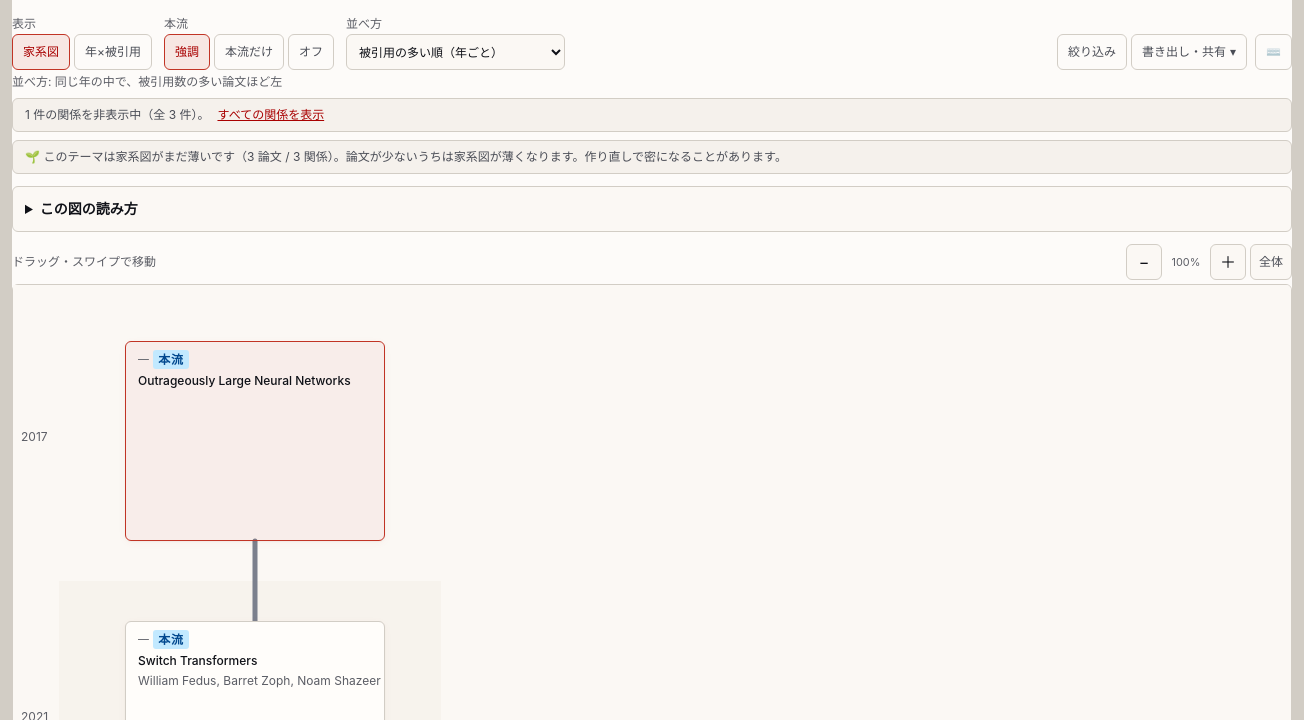
Test: LineageTree evidence UX (R2 UX P0-1 / P0-2) › draws baseline_only edges by default and announces the hidden contrasts edge
expect the message with test id "hidden-edges-notice" shows "1 件の関係を非表示中": met, box [12,98,1292,132]
Step 1. Click the button "すべての関係を表示" → (271,115), box [218,107,324,123]
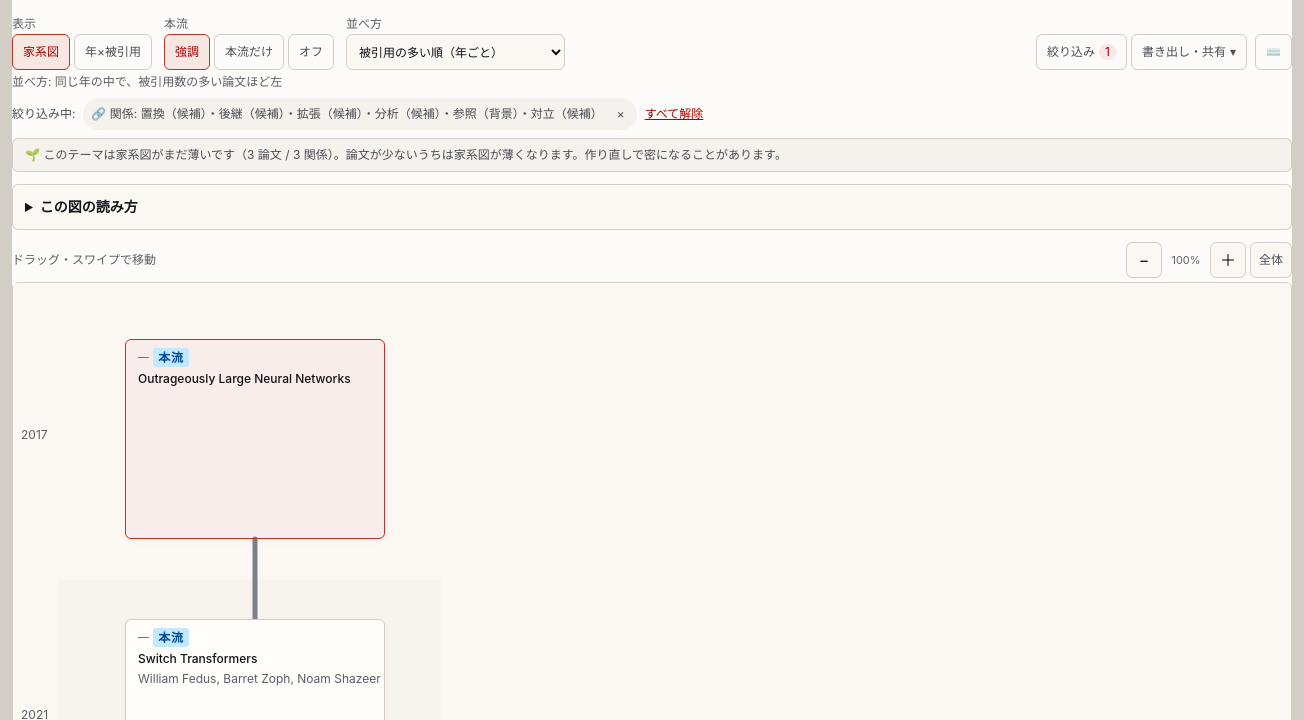
expect the message with test id "hidden-edges-notice" is gone: met
expect the text "🔗 関係: 置換（候補）・後継（候補）・拡張（候補）・分析（候補）・参照（背景）・対立（候補） ×" is shown: met, box [84,98,637,130]
